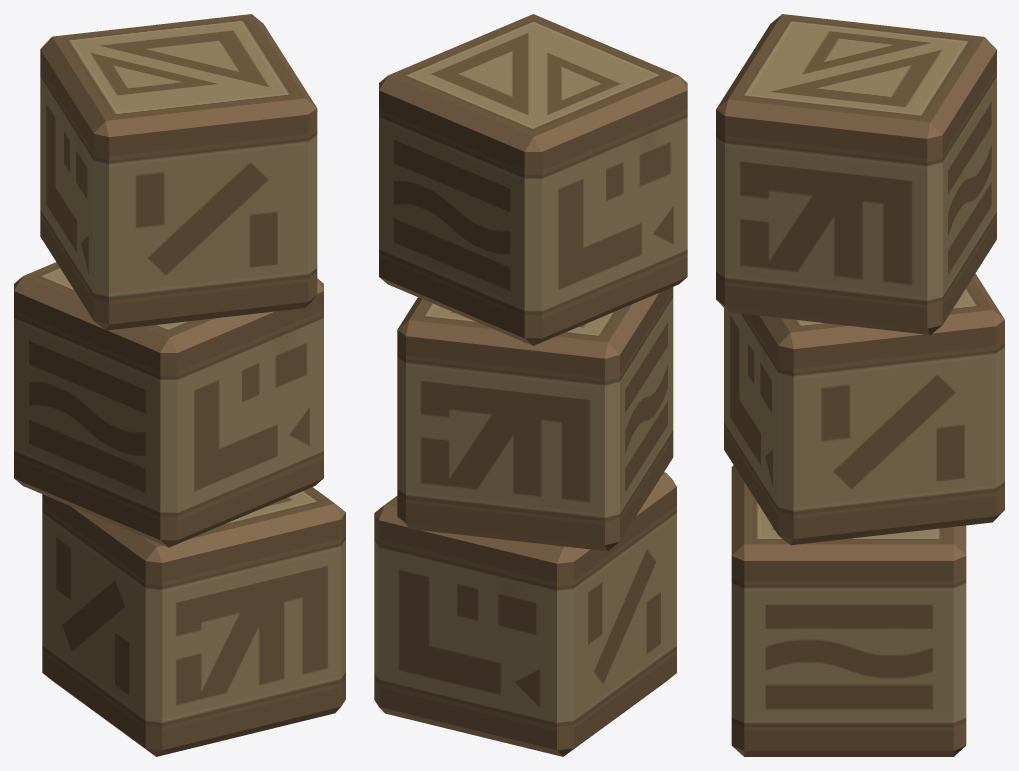
The model's file is BG_054_pillar3.FBX.
3 renders of one model, left to right at view 1: azimuth 30°, elevation 25°; view 2: azimuth 150°, elevation 25°; view 3: azimuth 270°, elevation 25°, orthographic.
Visible parts, largest first — view 1: BG_054_pillar3; view 2: BG_054_pillar3; view 3: BG_054_pillar3.
Part boxes in pixels (<box>): BG_054_pillar3: <box>14,14,345,756</box>; BG_054_pillar3: <box>374,14,687,756</box>; BG_054_pillar3: <box>716,14,1004,756</box>.
Bounding box in the file's own units: 107 × 263 × 108.
